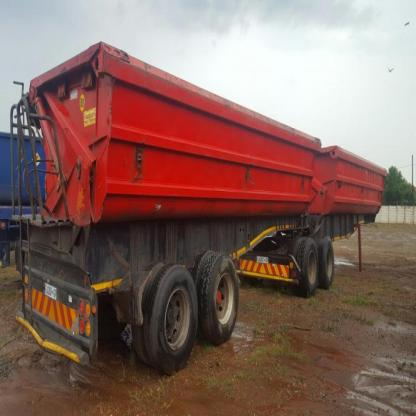dump_truck: (15, 38, 383, 346)
